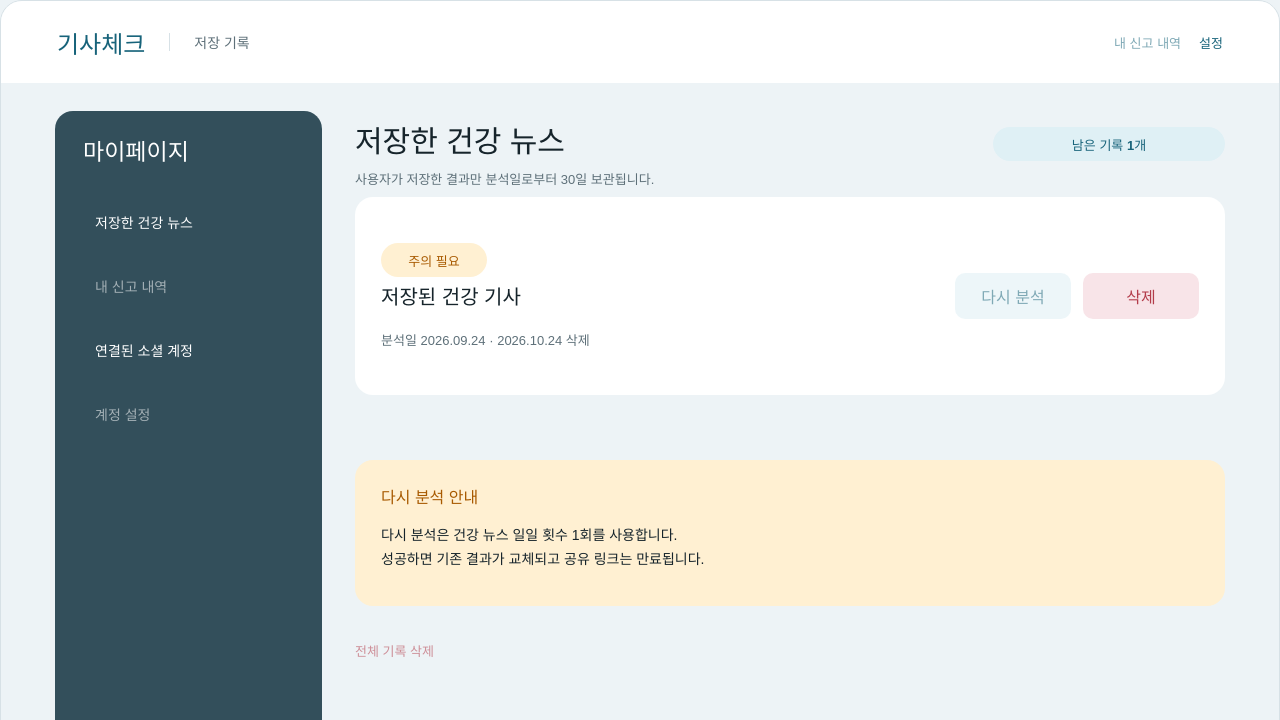
Scenario: SavedRecordsPage › 확인 후 저장 기록을 삭제하고 목록에서 제거한다
Click the button "삭제" at point(1141, 296), box x1=1083 y1=273 x2=1199 y2=319
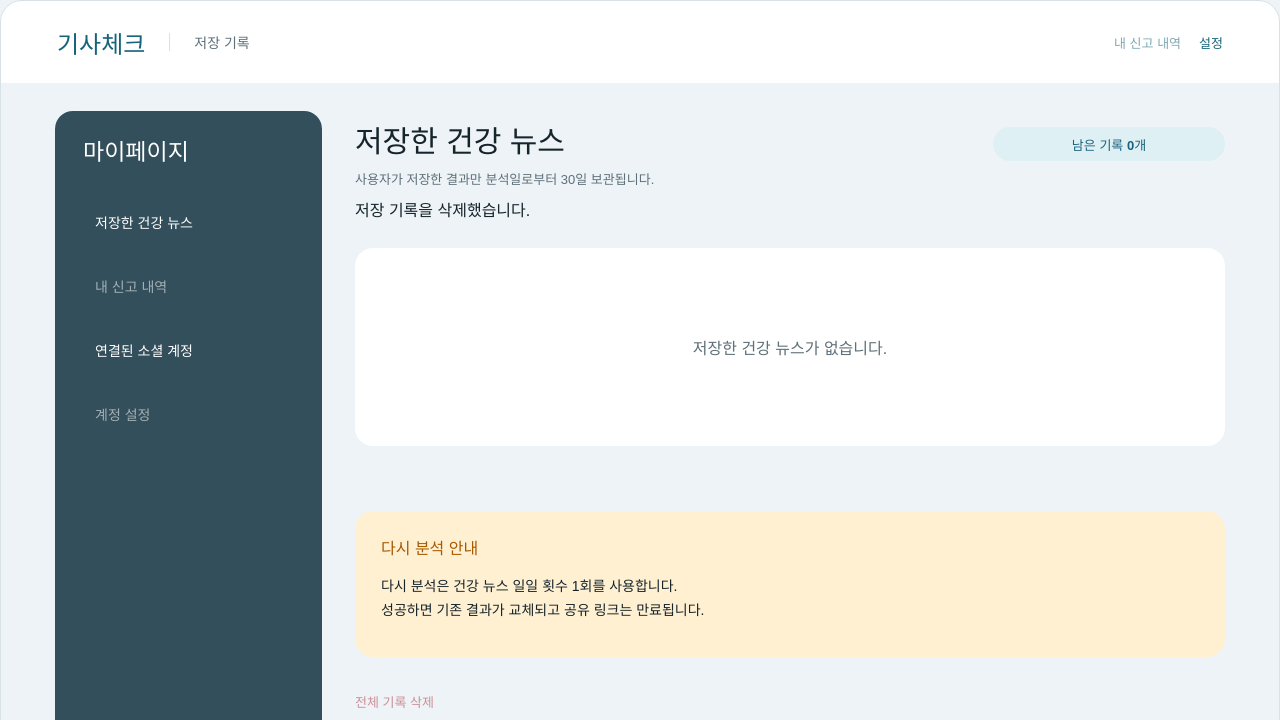
Expected: the text "저장한 건강 뉴스가 없습니다." is shown, x1=355 y1=248 x2=1225 y2=446
